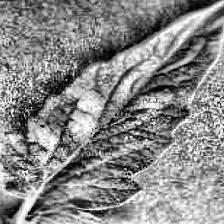leaf mold: (1, 0, 224, 214)
